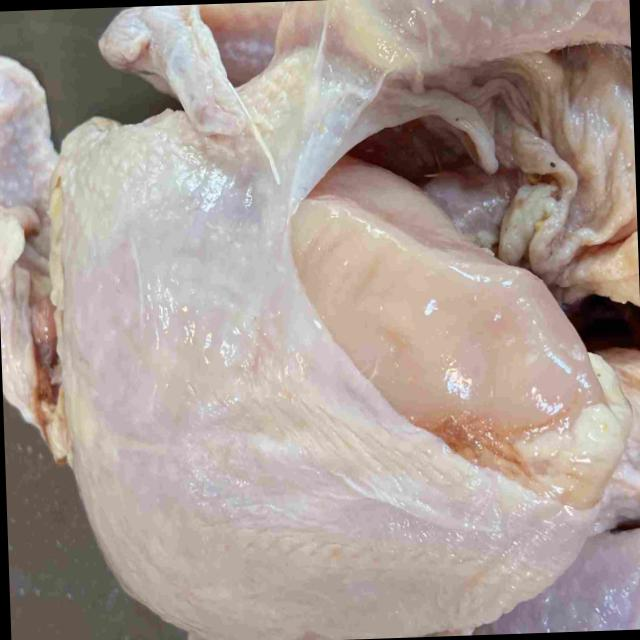breast: (58, 122, 627, 640)
leg: (436, 526, 640, 636), (273, 0, 631, 54)
neck: (0, 65, 60, 456)
wing: (102, 1, 278, 151)
